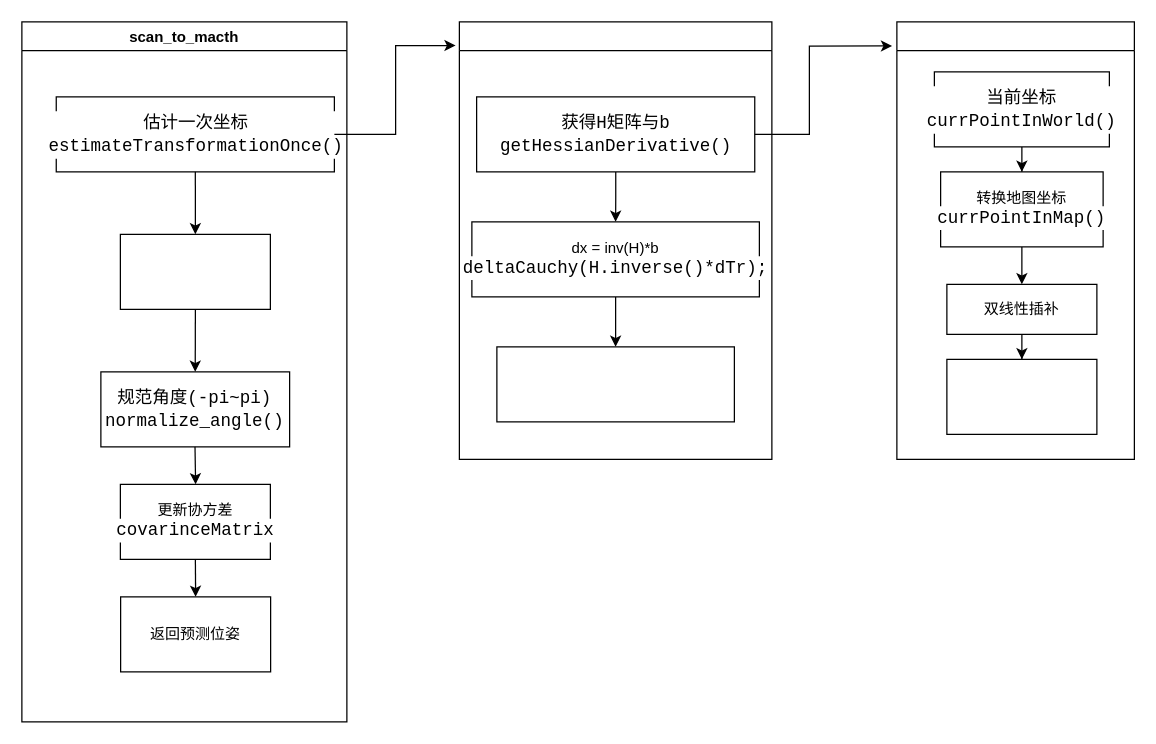
Some shapes in this 1156 by 744 pixel diagram are drawn without their labels. The box of each missing label's shape, as (x1, y1, x2, y2) in pixels:
estimateTransformationOnce(): (458, 21, 772, 459)
getHessianDerivative(): (896, 21, 1134, 459)
多次迭代: (119, 233, 270, 309)
更新坐标值 updateEstimatedPose(): (496, 346, 734, 422)
计算H矩阵与b: (946, 358, 1097, 434)
